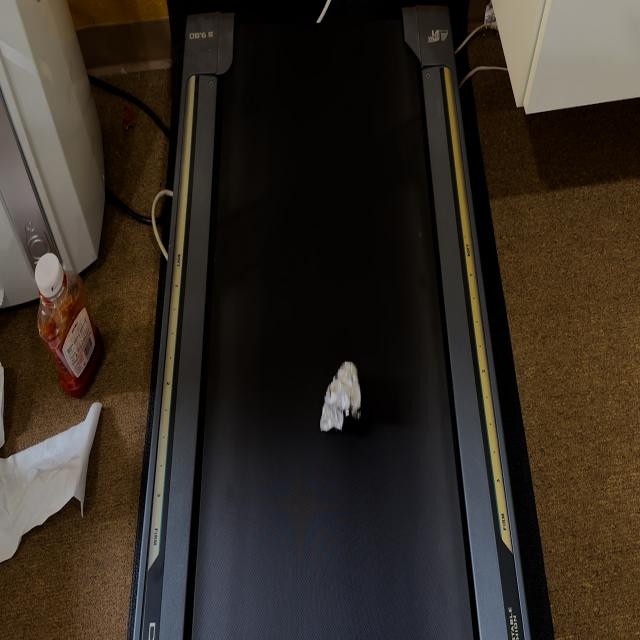Recycle: (319, 358, 363, 436)
